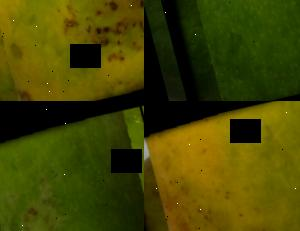PartiallyRipe: (144, 101, 300, 231), (0, 0, 144, 101)
Unripe: (0, 104, 144, 231), (150, 0, 300, 101)
